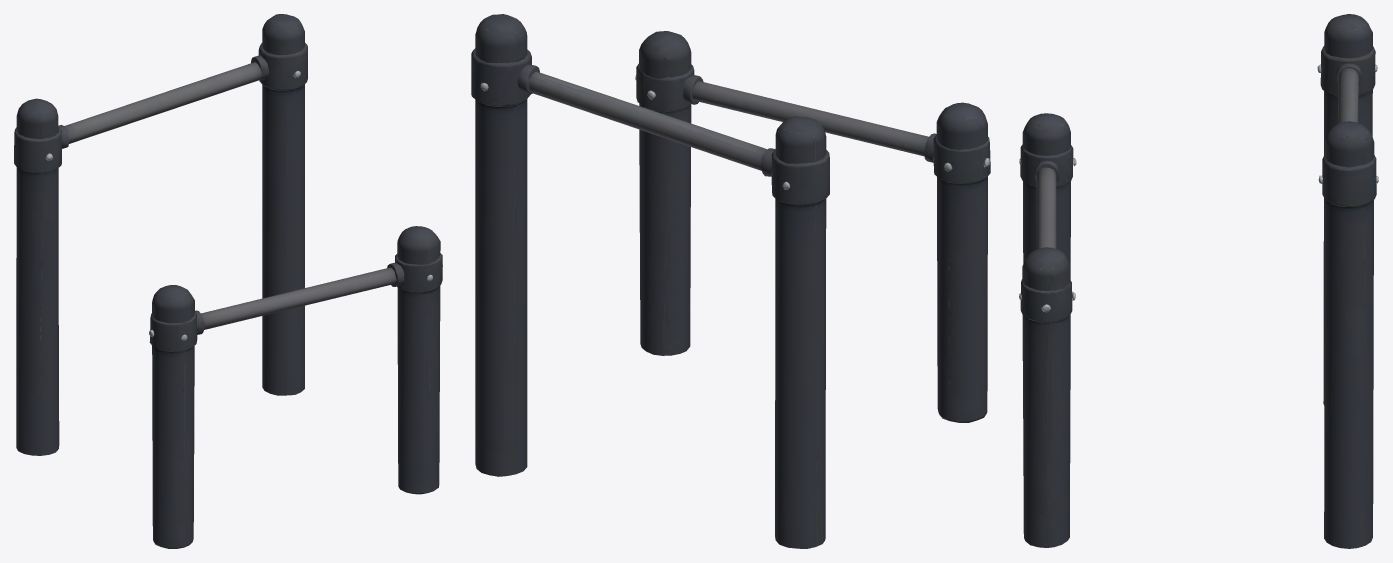
File: pullup-bars.glb
3 renders of one model, left to right at view 1: azimuth 30°, elevation 25°; view 2: azimuth 150°, elevation 25°; view 3: azimuth 270°, elevation 25°, orthographic. The views are drawn at different scales.
Parts seen in each view (by area): view 1: meshy-pullup-bars; view 2: meshy-pullup-bars; view 3: meshy-pullup-bars.
Part boxes in pixels (<box>): meshy-pullup-bars: <box>14,14,442,548</box>; meshy-pullup-bars: <box>471,14,990,548</box>; meshy-pullup-bars: <box>1019,14,1378,548</box>.
Bounding box in the file's own units: 2 × 2.41 × 1.91.
Materials: 1 (1 with a texture image).
